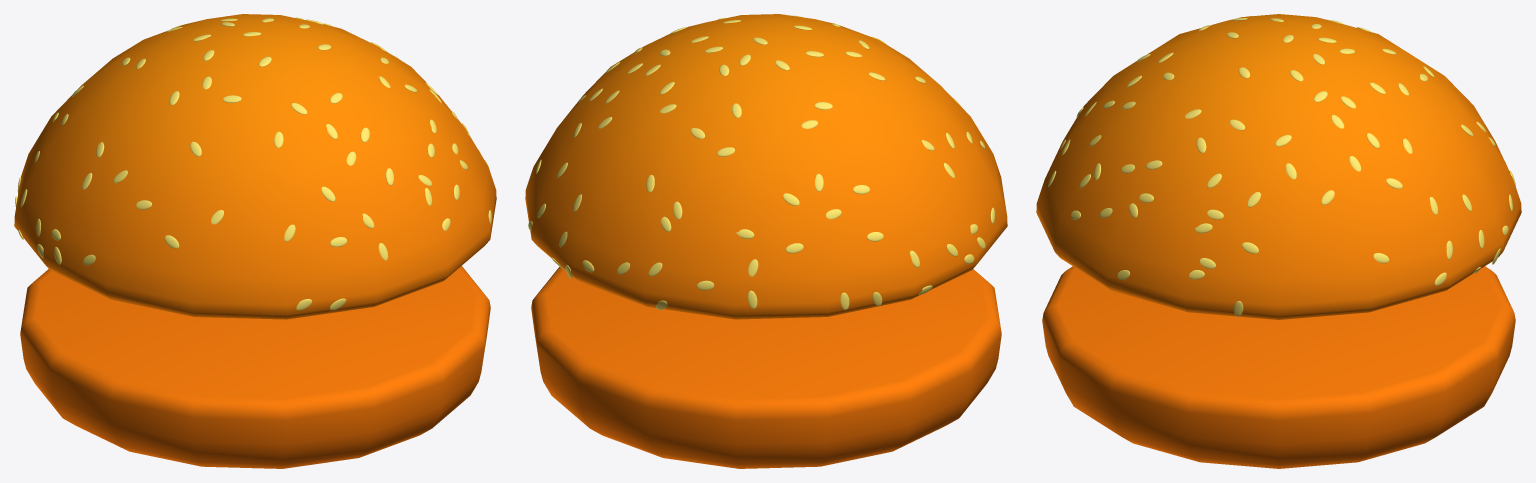
Rendered from itemNormal02.fbx.
3 renders of one model, left to right at view 1: azimuth 30°, elevation 25°; view 2: azimuth 150°, elevation 25°; view 3: azimuth 270°, elevation 25°, orthographic.
Parts seen in each view (by area): view 1: Hamburger; view 2: Hamburger; view 3: Hamburger.
Boxes of the visible parts, x1,y1,x2,y2 form: Hamburger: (14, 14, 496, 468); Hamburger: (525, 14, 1007, 468); Hamburger: (1036, 14, 1521, 468).
Bounding box in the file's own units: 199 × 158 × 199.
